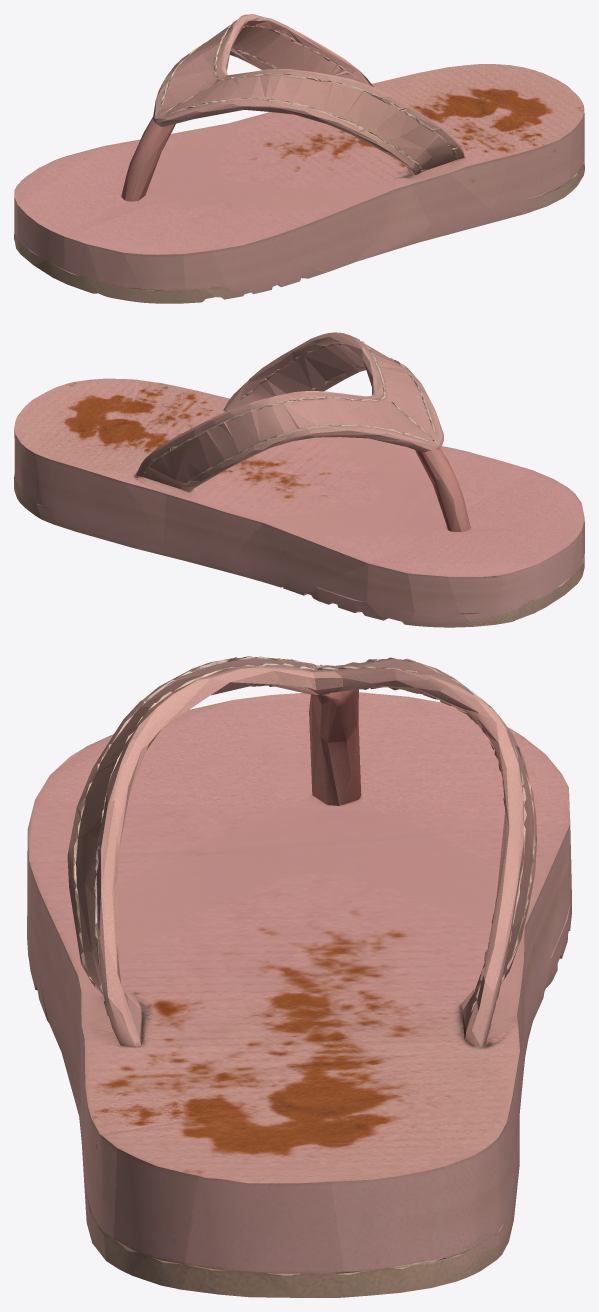
File: ciabatta.glb
3 renders of one model, top to bottom at view 1: azimuth 30°, elevation 25°; view 2: azimuth 150°, elevation 25°; view 3: azimuth 270°, elevation 25°, orthographic. The views are drawn at different scales.
Bounding box in the file's own units: 1.9 × 0.6009 × 0.8522.
1 material, 1 textured.
